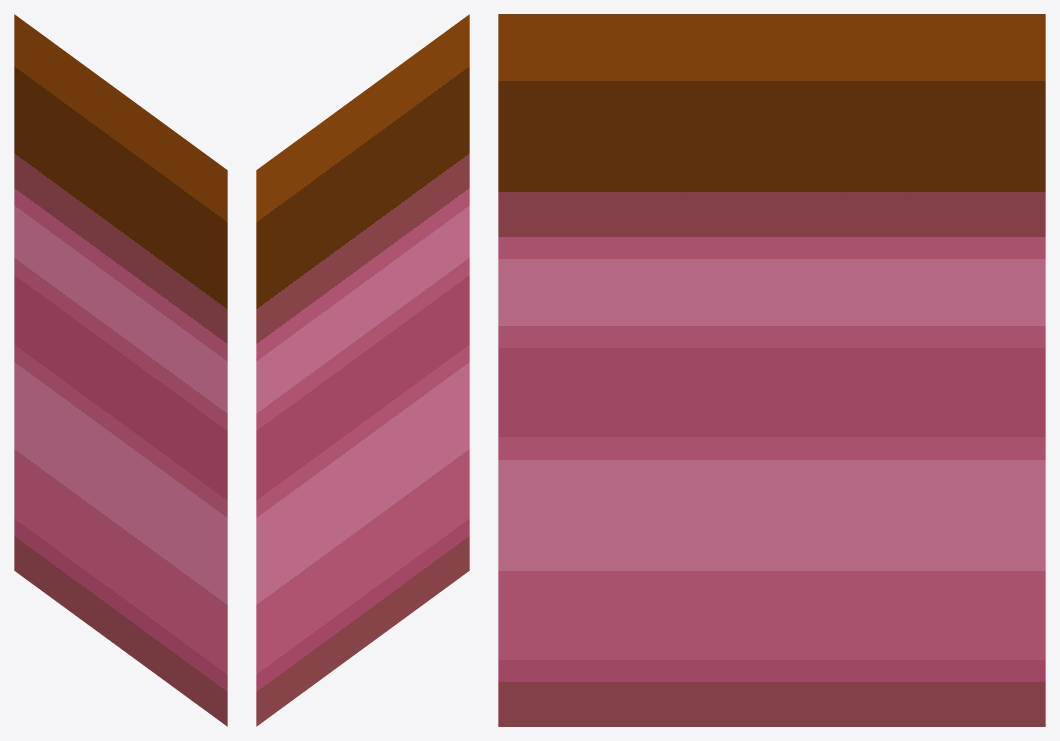
The picture shows the model from 3 angles, left to right: view 1: azimuth 30°, elevation 25°; view 2: azimuth 150°, elevation 25°; view 3: azimuth 270°, elevation 25°; orthographic projection. The views are drawn at different scales.
Size of the model in its own units: 0 by 1.44 by 1.
Materials: 1 (1 with a texture image).
